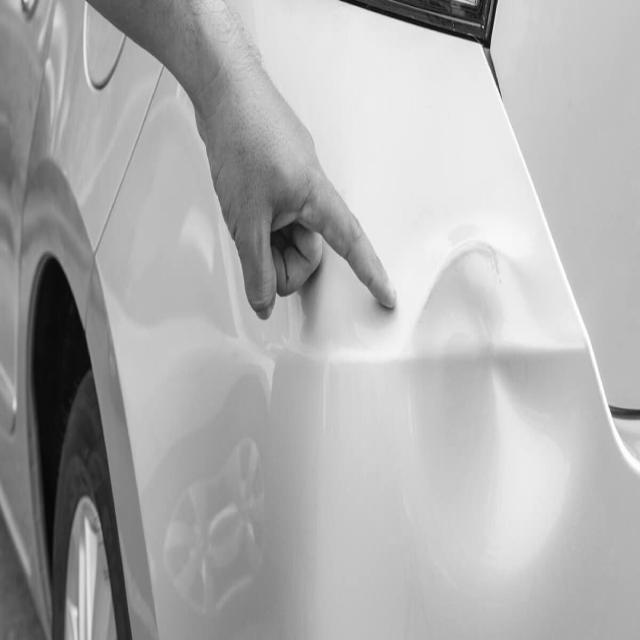dent: (388, 239, 578, 569)
